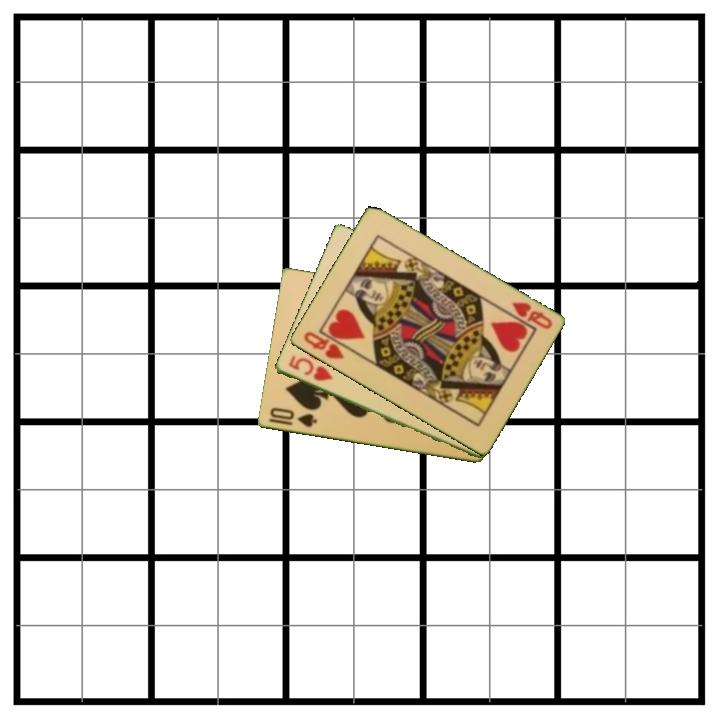10s: (266, 404, 320, 430)
5h: (284, 352, 336, 384)
Qh: (300, 328, 347, 362), (508, 298, 555, 332)
